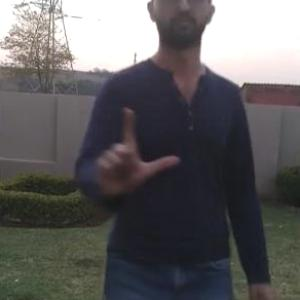land_hand: (88, 97, 175, 208)
